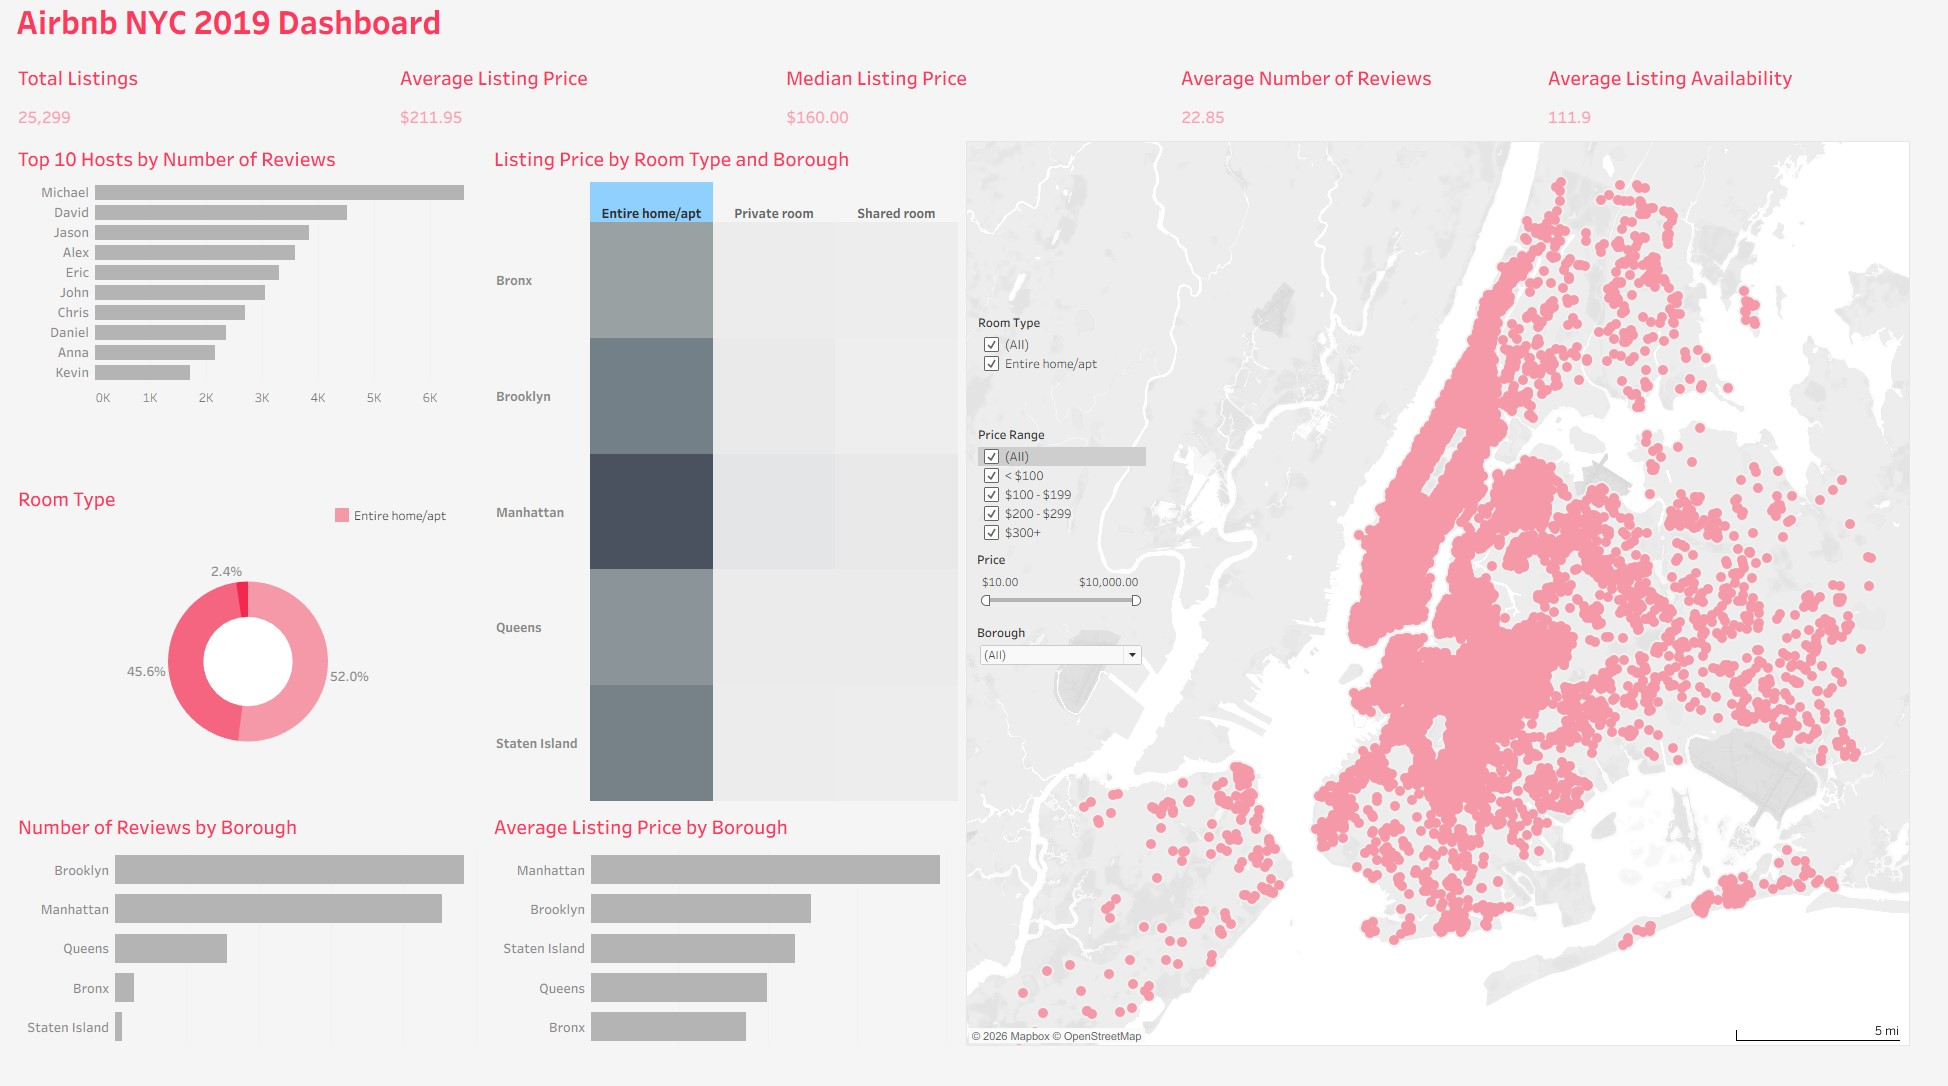

Layout of this report page (visuals, bound fields, positions):
{"tool":"tableau","page":{"name":"Dashboard 1","canvas":[1920,1080],"ordinal":0},"visuals":[{"type":"text","box":[8,8,1904,70]},{"type":"worksheet","title":"KPItotallistings","mark":"Automatic","box":[8,78,382,81.3]},{"type":"worksheet","title":"KPIavgprice","mark":"Automatic","box":[390,78,386,81.3]},{"type":"worksheet","title":"KPImedprice","mark":"Automatic","box":[776,78,395,81.3]},{"type":"worksheet","title":"KPIavgreviews","mark":"Automatic","box":[1171,78,367,81.3]},{"type":"worksheet","title":"KPIavgavailability","mark":"Automatic","box":[1538,78,374,81.3]},{"type":"worksheet","title":"Barhostsbyreviews","mark":"Automatic","rows":["host_name"],"cols":["number_of_reviews"],"box":[8,159.3,475.9,339.7]},{"type":"worksheet","title":"Heatmaptypebyborough","mark":"Automatic","rows":["neighbourhood_group"],"cols":["room_type"],"box":[484,159.3,476,668]},{"type":"worksheet","title":"Maplistings","mark":"Circle","rows":["latitude"],"cols":["longitude"],"box":[960,159.3,952,912.7]},{"type":"filter","title":"Maplistings","param":"[federated.145yd0z09dek1p122aieh1rym9jb].[none:room_type:nk]","box":[976,336,168,108]},{"type":"filter","title":"Maplistings","param":"[federated.145yd0z09dek1p122aieh1rym9jb].[none:Calculation_22804734207377409:nk]","box":[976,448,168,119]},{"type":"worksheet","title":"Donutroomtype","mark":"Pie","rows":["Calculation_0862293583007744","Calculation_0862293583007744"],"box":[8,499,475.9,328.2]},{"type":"legend","title":"Maplistings","param":"[federated.145yd0z09dek1p122aieh1rym9jb].[none:room_type:nk]","box":[330,509,140,82]},{"type":"filter","title":"Maplistings","param":"[federated.145yd0z09dek1p122aieh1rym9jb].[none:price:qk]","box":[975,573,168,69]},{"type":"filter","title":"Maplistings","param":"[federated.145yd0z09dek1p122aieh1rym9jb].[none:neighbourhood_group:nk]","box":[975,646,168,52]},{"type":"worksheet","title":"Barreviewsbyborough","mark":"Automatic","rows":["neighbourhood_group"],"cols":["number_of_reviews"],"box":[8,827.2,475.9,244.8]},{"type":"worksheet","title":"Barpricebyborough","mark":"Automatic","rows":["neighbourhood_group"],"cols":["price"],"box":[484,827.2,476,244.8]}]}

Visuals, with their boxes in screenshot pixels (x1, y1, x2, y2), scaled from the page's 1920x1080 canvas onto the 1948x1086 screenshot:
text: bbox=(8, 8, 1940, 78)
"KPItotallistings" worksheet: bbox=(8, 78, 396, 160)
"KPIavgprice" worksheet: bbox=(396, 78, 787, 160)
"KPImedprice" worksheet: bbox=(787, 78, 1188, 160)
"KPIavgreviews" worksheet: bbox=(1188, 78, 1560, 160)
"KPIavgavailability" worksheet: bbox=(1560, 78, 1940, 160)
"Barhostsbyreviews" worksheet: bbox=(8, 160, 491, 502)
"Heatmaptypebyborough" worksheet: bbox=(491, 160, 974, 832)
"Maplistings" worksheet (Circle marks): bbox=(974, 160, 1940, 1078)
"Maplistings" filter: bbox=(990, 338, 1161, 446)
"Maplistings" filter: bbox=(990, 450, 1161, 570)
"Donutroomtype" worksheet (Pie marks): bbox=(8, 502, 491, 832)
"Maplistings" legend: bbox=(335, 512, 477, 594)
"Maplistings" filter: bbox=(989, 576, 1160, 646)
"Maplistings" filter: bbox=(989, 650, 1160, 702)
"Barreviewsbyborough" worksheet: bbox=(8, 832, 491, 1078)
"Barpricebyborough" worksheet: bbox=(491, 832, 974, 1078)
